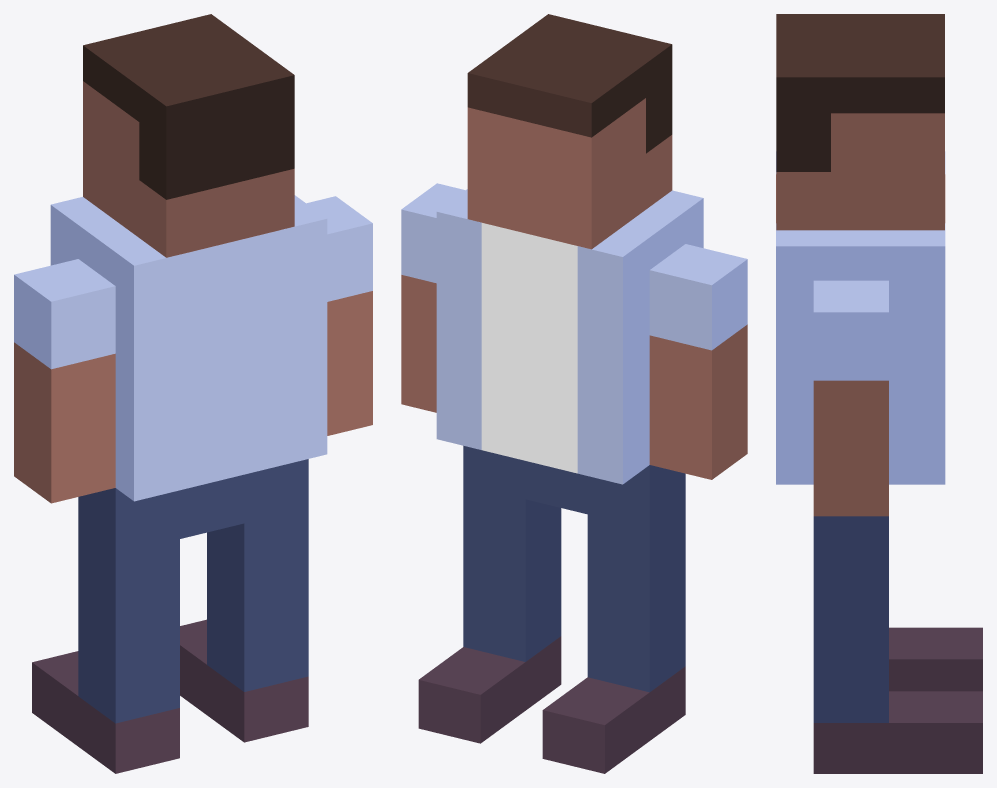
Rendered from new-person-2.1.glb.
The picture shows the model from 3 angles, left to right: view 1: azimuth 30°, elevation 25°; view 2: azimuth 150°, elevation 25°; view 3: azimuth 270°, elevation 25°; orthographic projection. The views are drawn at different scales.
Visible parts, largest first — view 1: UNIT.046, UNIT.050, UNIT.049, UNIT.048, UNIT.047; view 2: UNIT.046, UNIT.050, UNIT.049, UNIT.048, UNIT.047; view 3: UNIT.046, UNIT.049, UNIT.047, UNIT.050.
Part boxes in pixels (x1,y1,x2,y2): UNIT.046: (50,14,327,538); UNIT.050: (32,488,179,773); UNIT.049: (180,459,308,742); UNIT.048: (14,259,115,503); UNIT.047: (306,196,372,435); UNIT.046: (436,14,703,514); UNIT.050: (542,465,685,773); UNIT.049: (418,445,561,743); UNIT.048: (649,244,747,479); UNIT.047: (401,183,465,412); UNIT.046: (776,14,945,484); UNIT.049: (813,516,982,773); UNIT.047: (813,280,888,516); UNIT.050: (889,627,982,691).
Bounding box in the file's own units: 0.7001 × 1.4 × 0.3852.
1 material, 1 textured.
